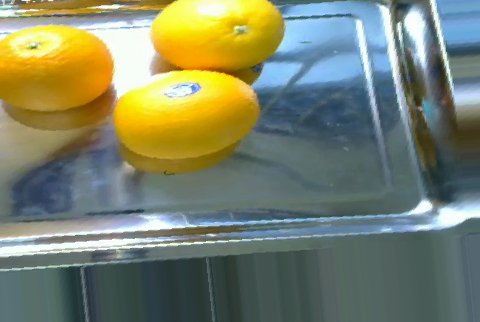Orange: (114, 69, 259, 159), (1, 24, 114, 111), (150, 0, 286, 70)
